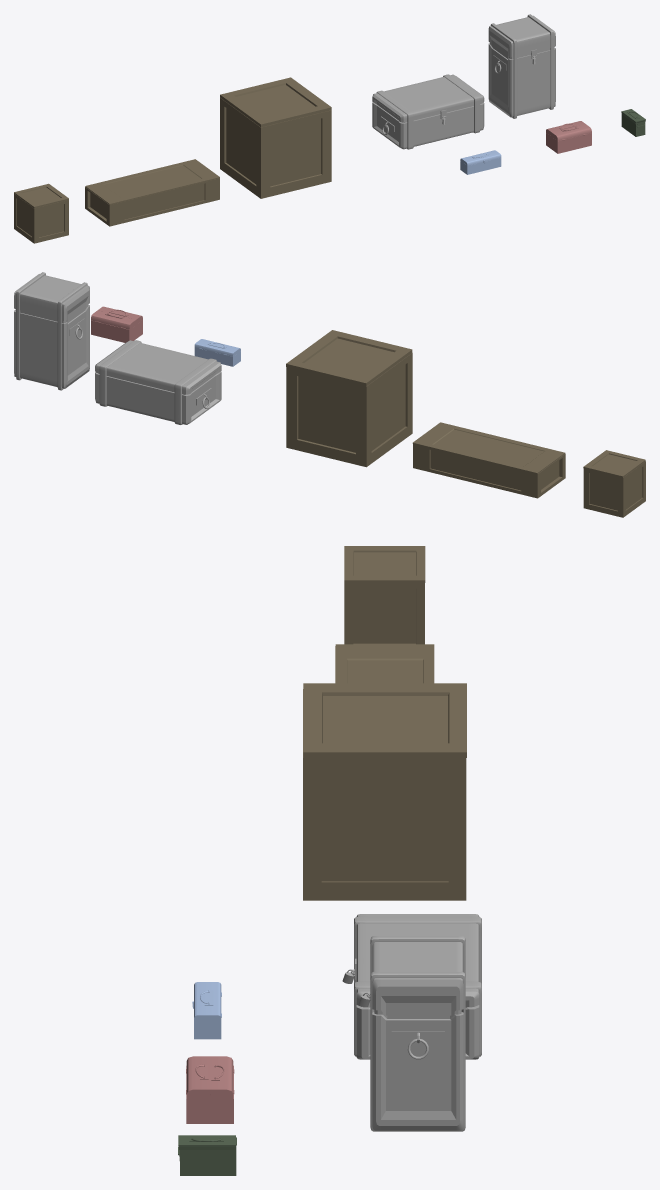
Rendered from Crates.fbx.
3 views of the same model, one above another, from view 1: azimuth 30°, elevation 25°; view 2: azimuth 150°, elevation 25°; view 3: azimuth 270°, elevation 25° (orthographic). The views are drawn at different scales.
Visible parts, largest first — view 1: Crate (×5), Lid (×4), Container, polySurface2; view 2: Crate (×5), Lid (×5), Container, polySurface2; view 3: Crate (×4), Lid (×6), Container (×2).
Boxes of the visible parts, box(x1,y1,x2,y2) form: Crate (×5): box(14, 14, 555, 243); Lid (×4): box(14, 77, 591, 208); Container: box(546, 133, 591, 153); polySurface2: box(460, 158, 501, 174); Crate (×5): box(14, 272, 645, 517); Lid (×5): box(91, 310, 645, 477); Container: box(91, 320, 142, 342); polySurface2: box(194, 347, 240, 366); Crate (×4): box(303, 583, 481, 1131); Lid (×6): box(186, 546, 466, 1098); Container (×2): box(180, 1065, 236, 1175).
Size of the model in its own units: 8.05 by 1.08 by 1.86.
